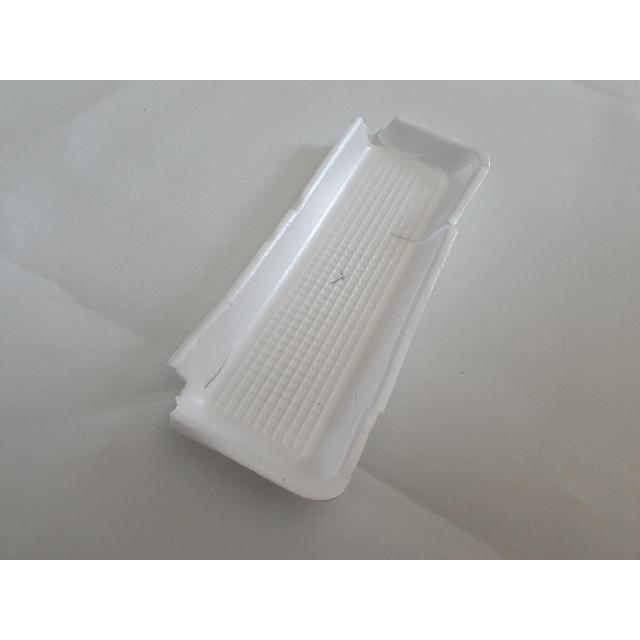Plastico descartable: (168, 120, 490, 504)
